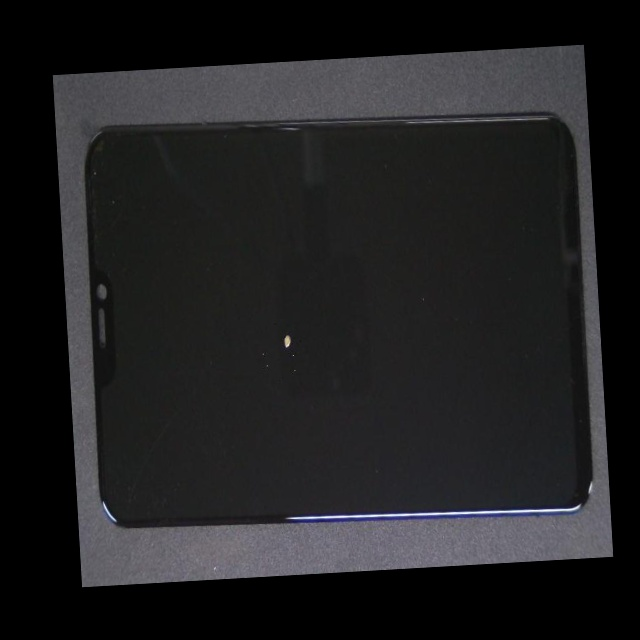stain: (138, 169, 376, 503)
